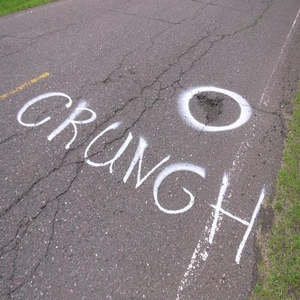pothole: (197, 93, 228, 123)
